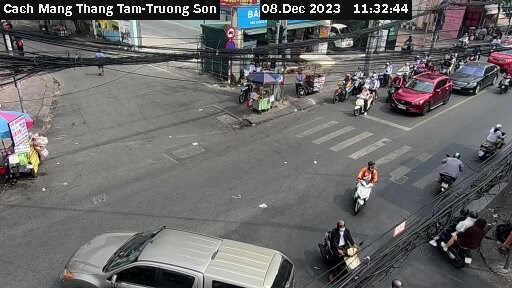car: (59, 208, 302, 288), (387, 69, 453, 119), (449, 59, 499, 99), (488, 41, 512, 74)
motorbike: (419, 210, 479, 264), (322, 228, 374, 288), (343, 163, 386, 217), (431, 154, 472, 201), (474, 123, 508, 165), (353, 83, 382, 119), (331, 75, 359, 106), (497, 71, 512, 95)
